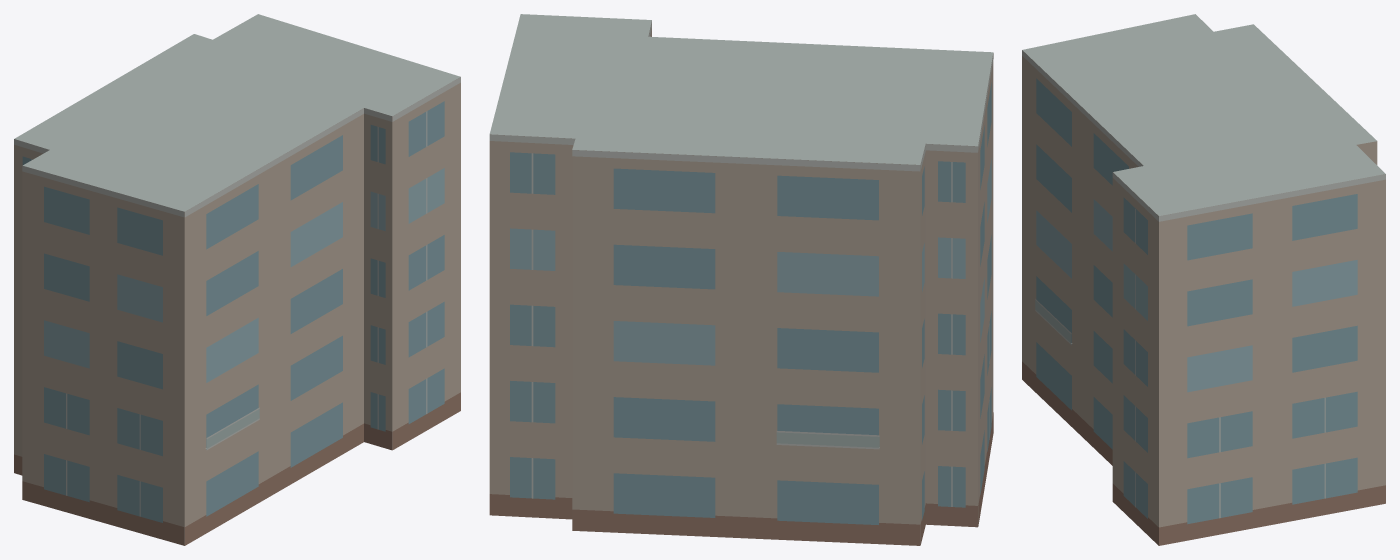
Rendered from survey-upis-32985100.glb.
3 views of the same model, side by side, from view 1: azimuth 30°, elevation 25°; view 2: azimuth 150°, elevation 25°; view 3: azimuth 270°, elevation 25° (orthographic). The views are drawn at different scales.
Visible parts, largest first — view 1: survey-upis-32985100.tmp; view 2: survey-upis-32985100.tmp; view 3: survey-upis-32985100.tmp.
Part boxes in pixels (<box>): survey-upis-32985100.tmp: <box>14,14,460,545</box>; survey-upis-32985100.tmp: <box>489,14,993,545</box>; survey-upis-32985100.tmp: <box>1022,14,1385,545</box>.
Size of the model in its own units: 18.68 by 14.2 by 14.21.
